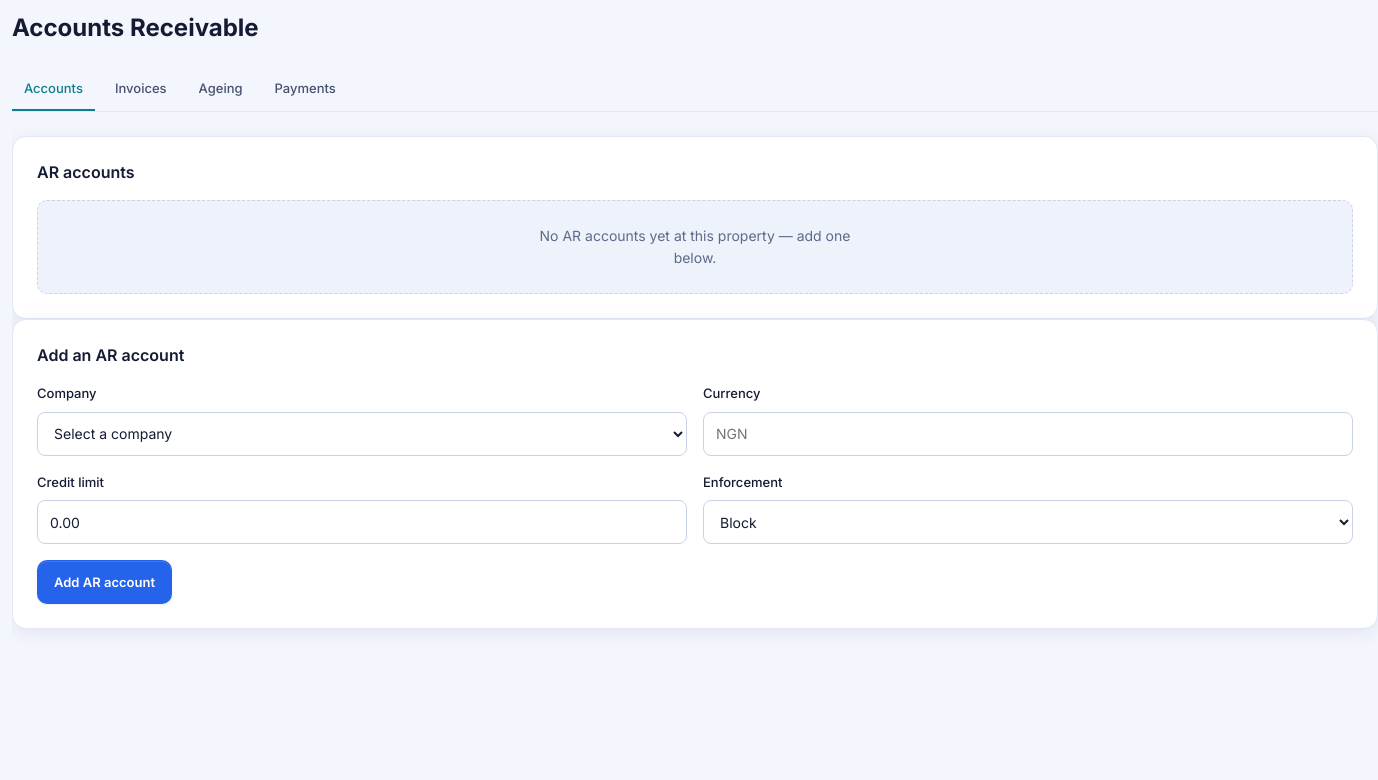
Scenario: <ARScreen> › switches to the Ageing tab
Click the tab "Ageing" at x=221, y=89, box [187, 67, 255, 111]
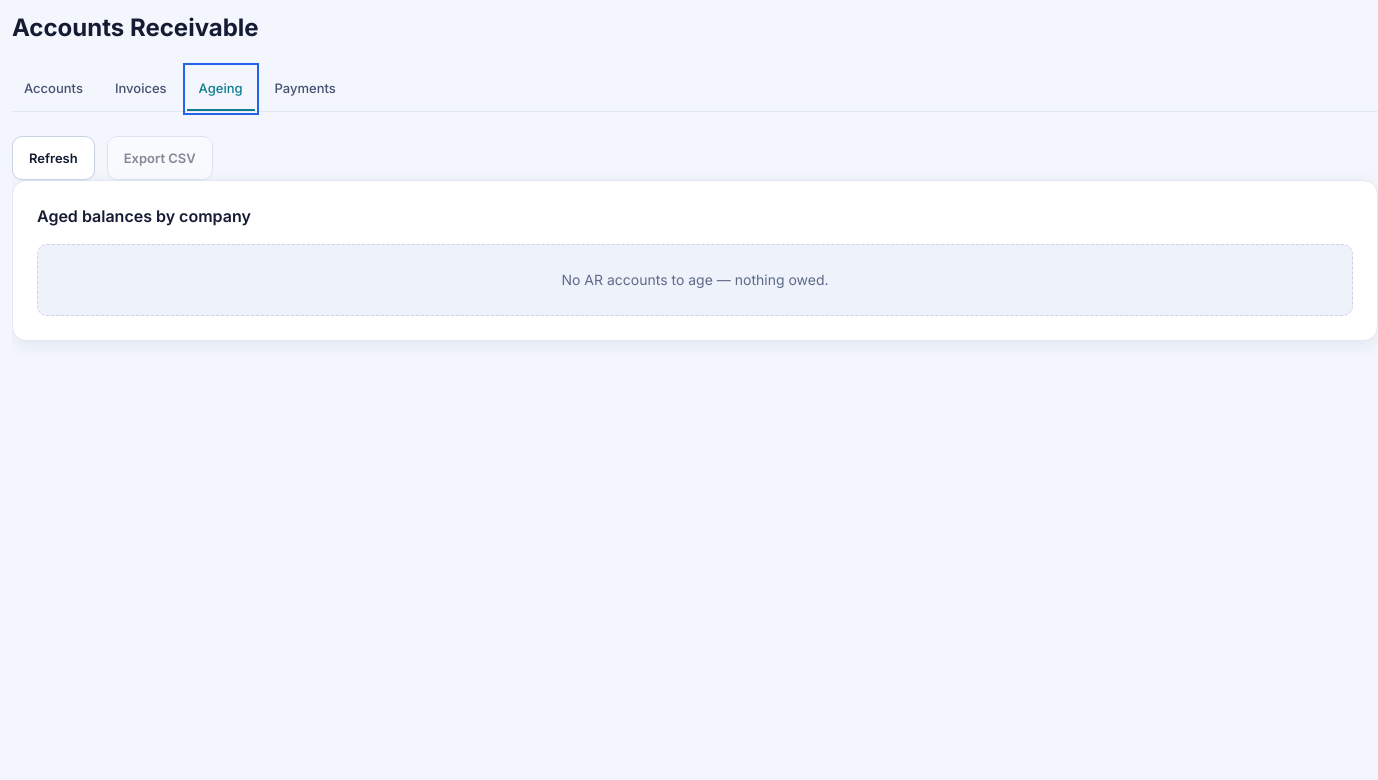
Check: the heading "Aged balances by company" is shown, box [37, 206, 251, 226]
